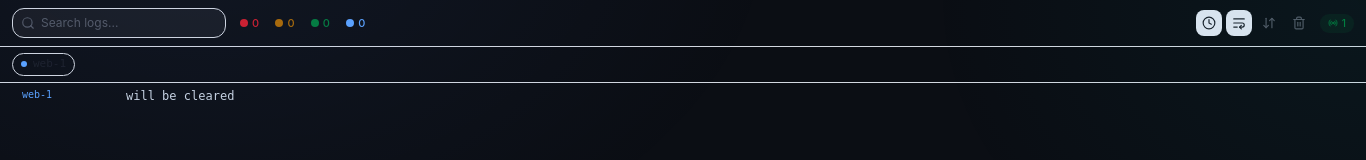
MultiPodLogsPanel › Clear empties the buffered lines
expect the button "web-1" is shown: met, box [12, 53, 75, 76]
expect the text "will be cleared" is shown: met, box [126, 86, 234, 106]
Click the button titled "Clear" at [1299, 23], box [1286, 10, 1312, 36]
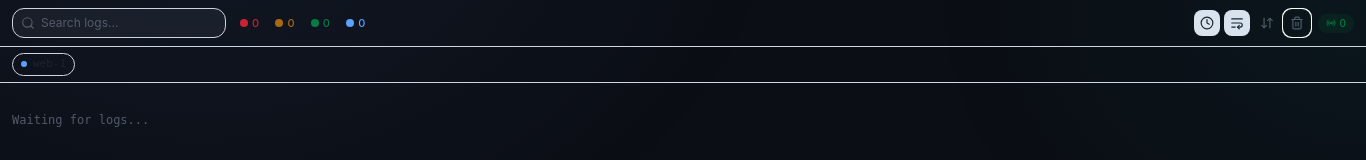
expect the text "will be cleared" is gone: met
expect the text "Waiting for logs..." is shown: met, box [12, 112, 149, 126]
